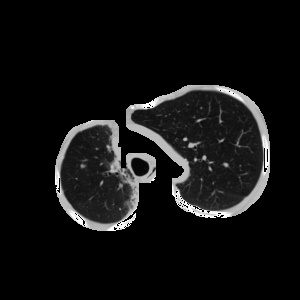PN: (79, 163, 85, 169)
